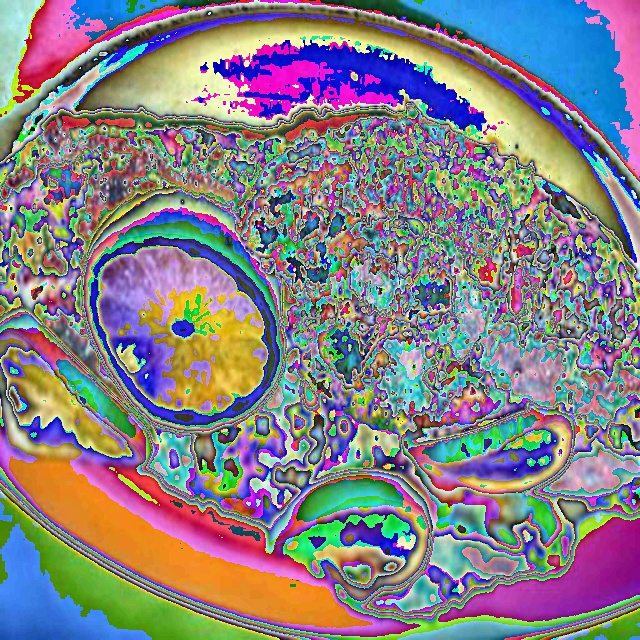background: (0, 106, 640, 619)
